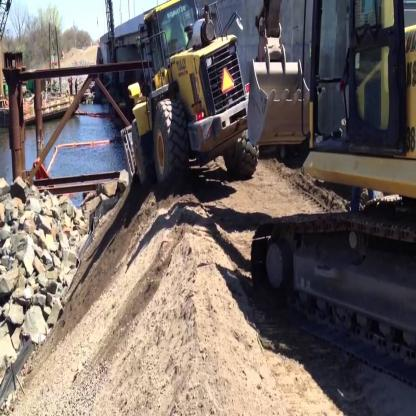bull_dozer/loader/grader: (114, 3, 268, 200)
